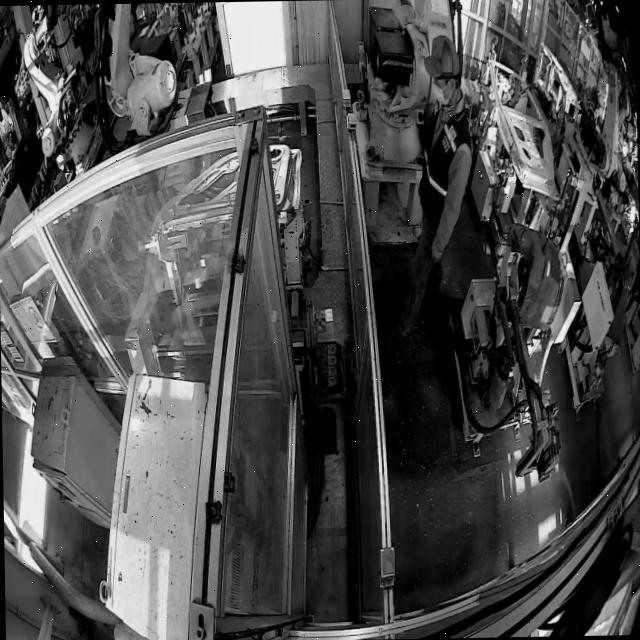Person: (383, 34, 476, 348)
